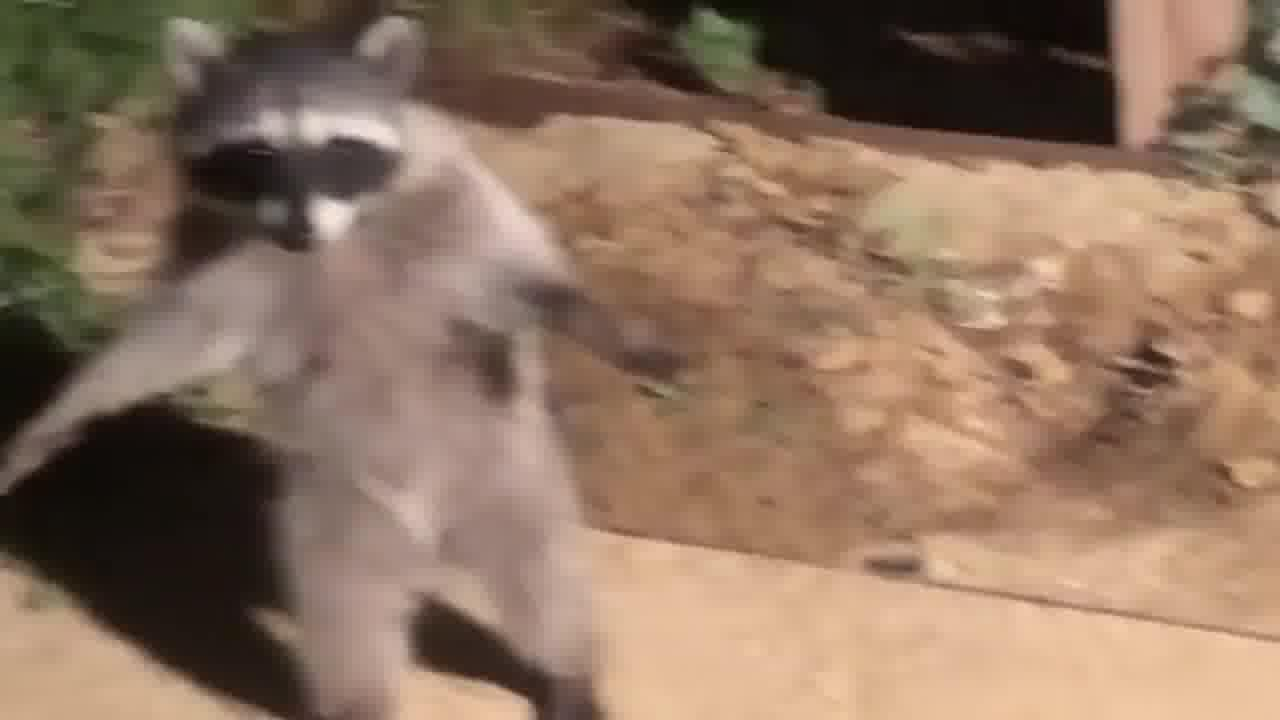raccoon: (1, 11, 694, 720)
